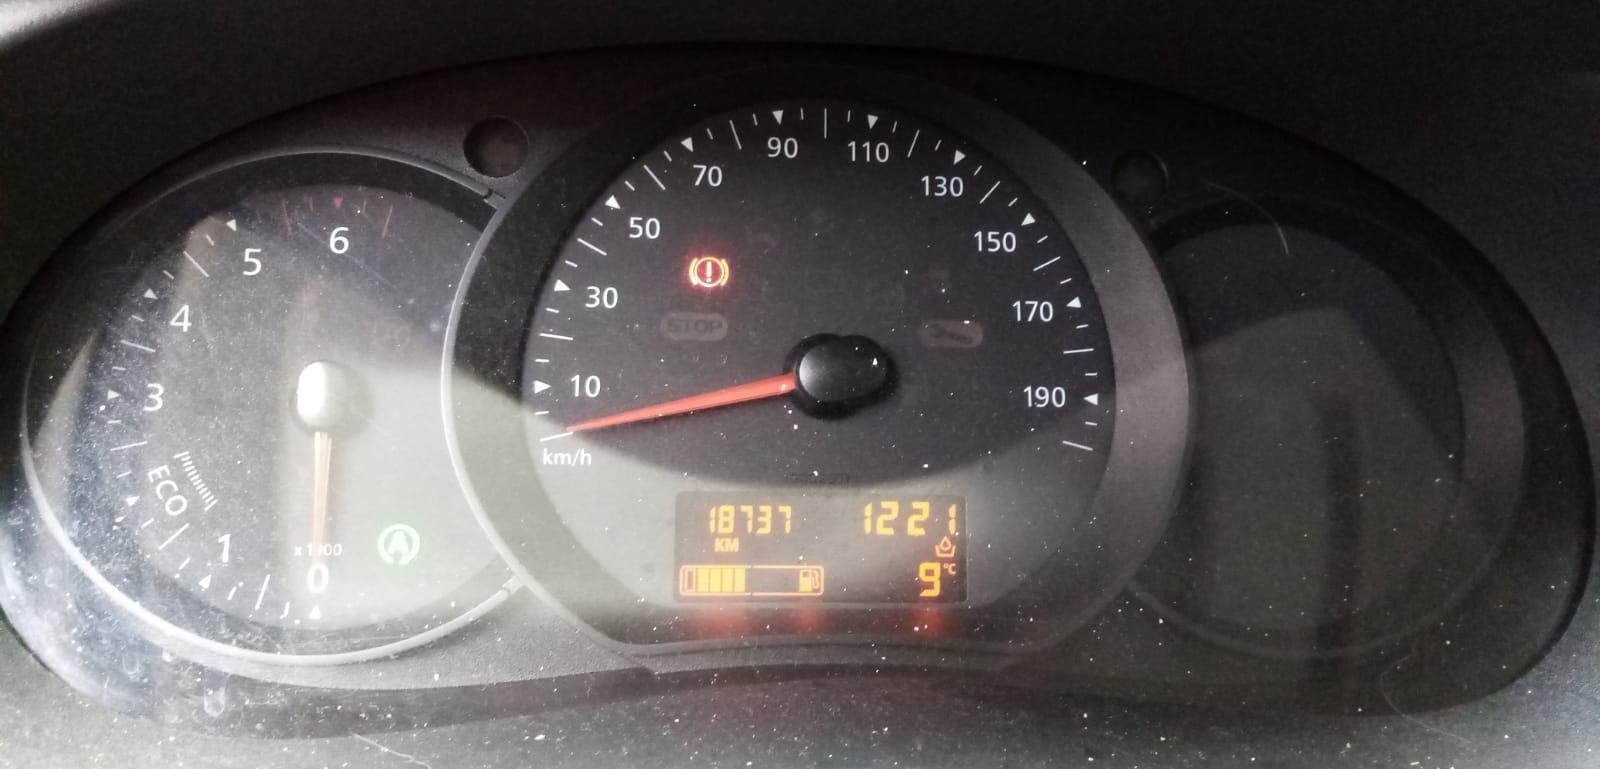1: (945, 500, 961, 534), (862, 499, 874, 536), (709, 501, 716, 534)
2: (876, 497, 898, 537), (906, 499, 930, 537)
3: (756, 502, 772, 535)
7: (778, 503, 795, 536), (739, 501, 754, 533)
8: (717, 504, 736, 535)
9: (915, 560, 941, 599)
X: (724, 537, 740, 553), (713, 537, 724, 553), (949, 562, 958, 577)
odometer: (666, 478, 973, 614)
